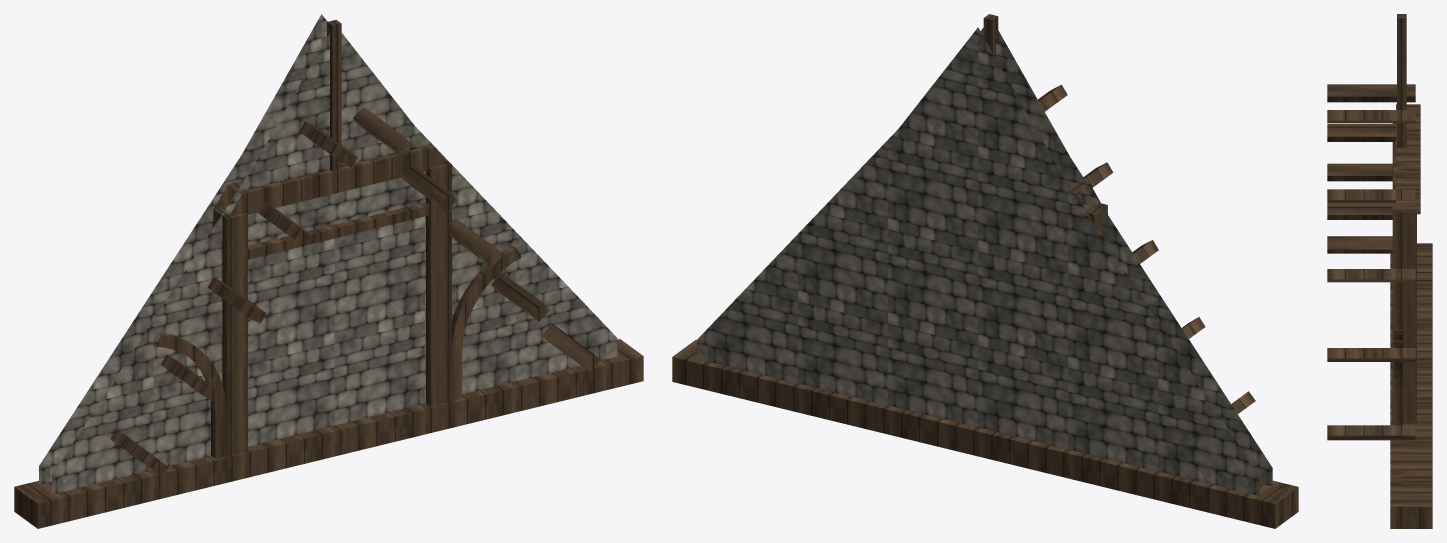
The model's file is Roof_Front_DryStone6.gltf.
The picture shows the model from 3 angles, left to right: view 1: azimuth 30°, elevation 25°; view 2: azimuth 150°, elevation 25°; view 3: azimuth 270°, elevation 25°; orthographic projection. The views are drawn at different scales.
Visible parts, largest first — view 1: Roof_Front_DryStone6; view 2: Roof_Front_DryStone6; view 3: Roof_Front_DryStone6.
Part boxes in pixels (left/top/right/bottom): Roof_Front_DryStone6: left=14, top=14, right=643, bottom=528; Roof_Front_DryStone6: left=672, top=14, right=1298, bottom=528; Roof_Front_DryStone6: left=1327, top=14, right=1432, bottom=528.
Bounding box in the file's own units: 6.69 × 4.52 × 1.13.
2 materials, 2 textured.
